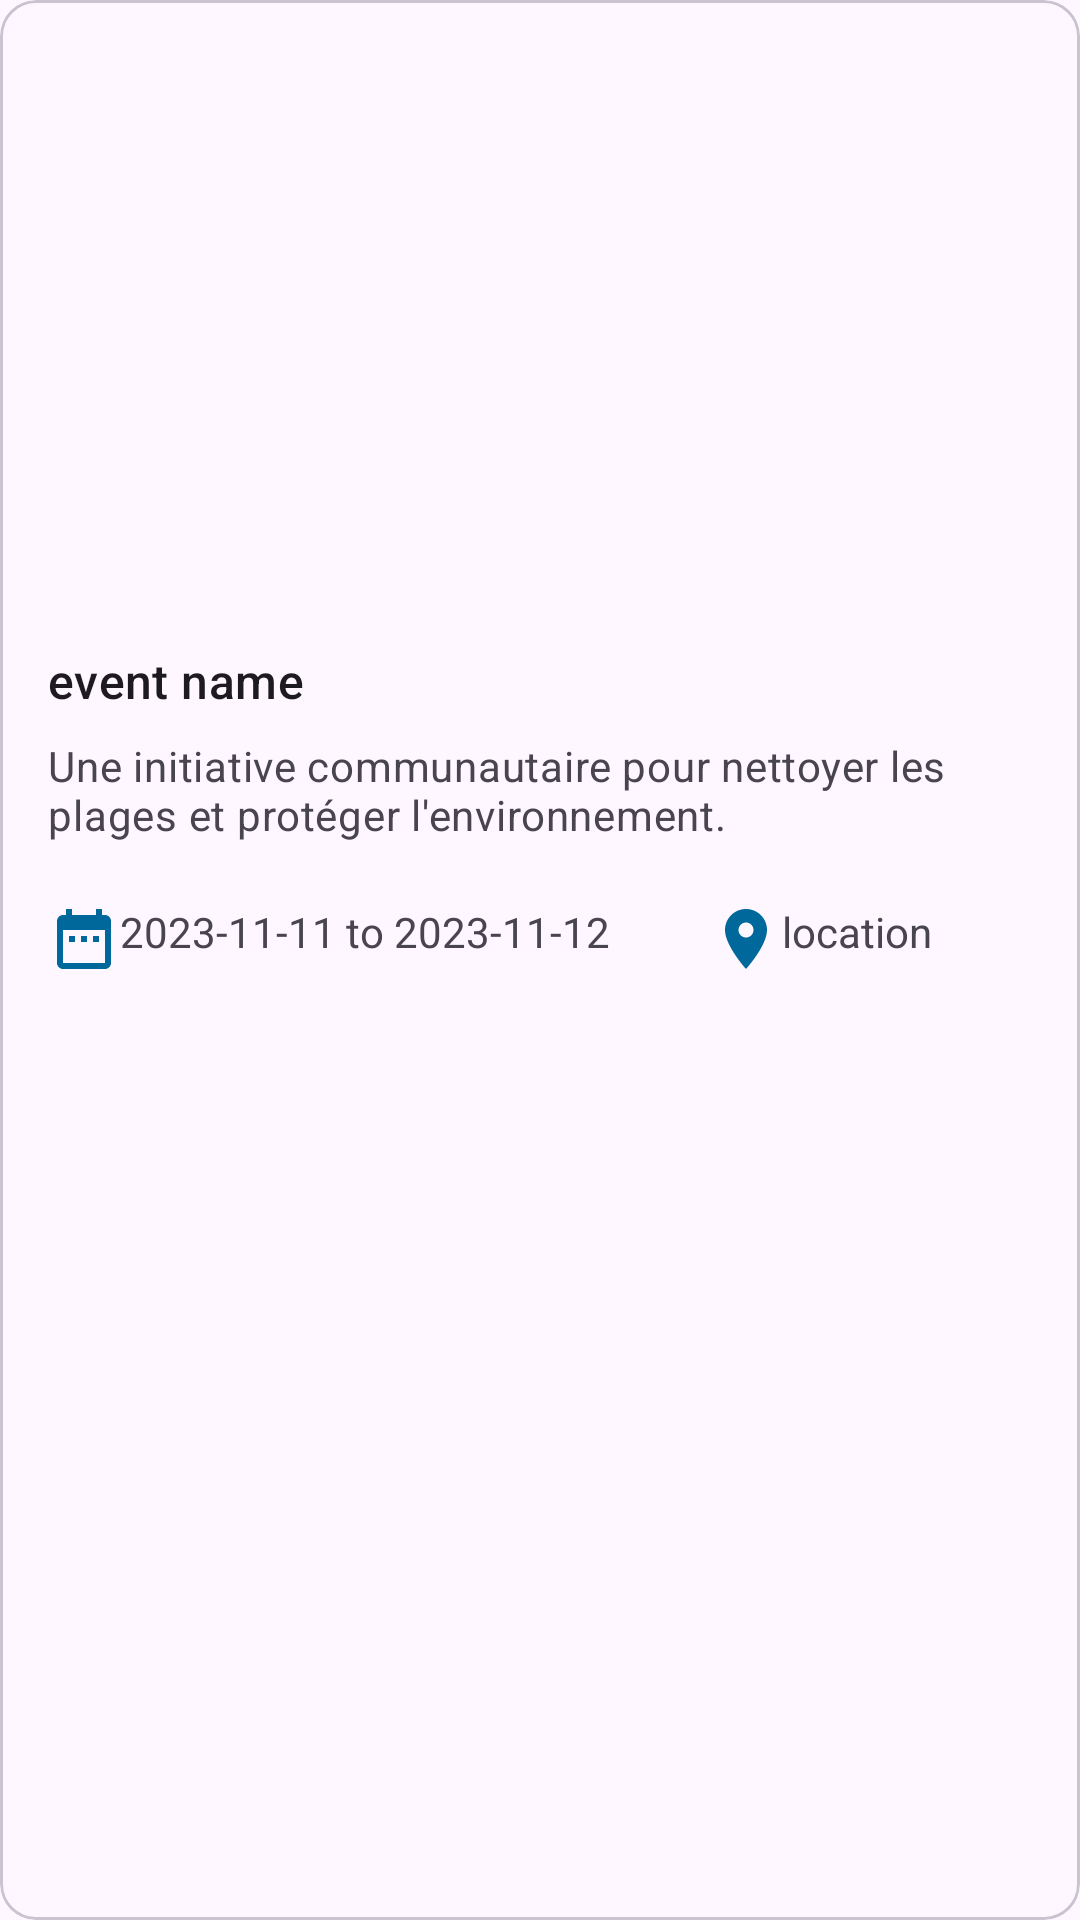

Where to tap for icons on this 1080 x 1920 app screen, as (x,y):
date range: (84,939)
